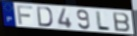4: (57, 8, 73, 29)
9: (76, 9, 91, 30)
B: (112, 12, 131, 33)
D: (36, 6, 54, 28)
F: (16, 5, 35, 26)
L: (95, 10, 111, 32)
